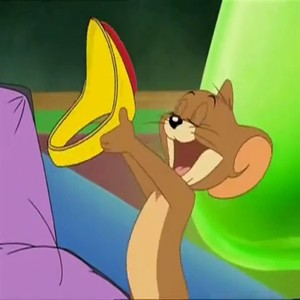Jerry: (115, 81, 273, 298)
